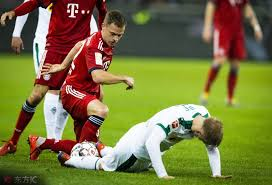fall: (29, 103, 238, 176)
